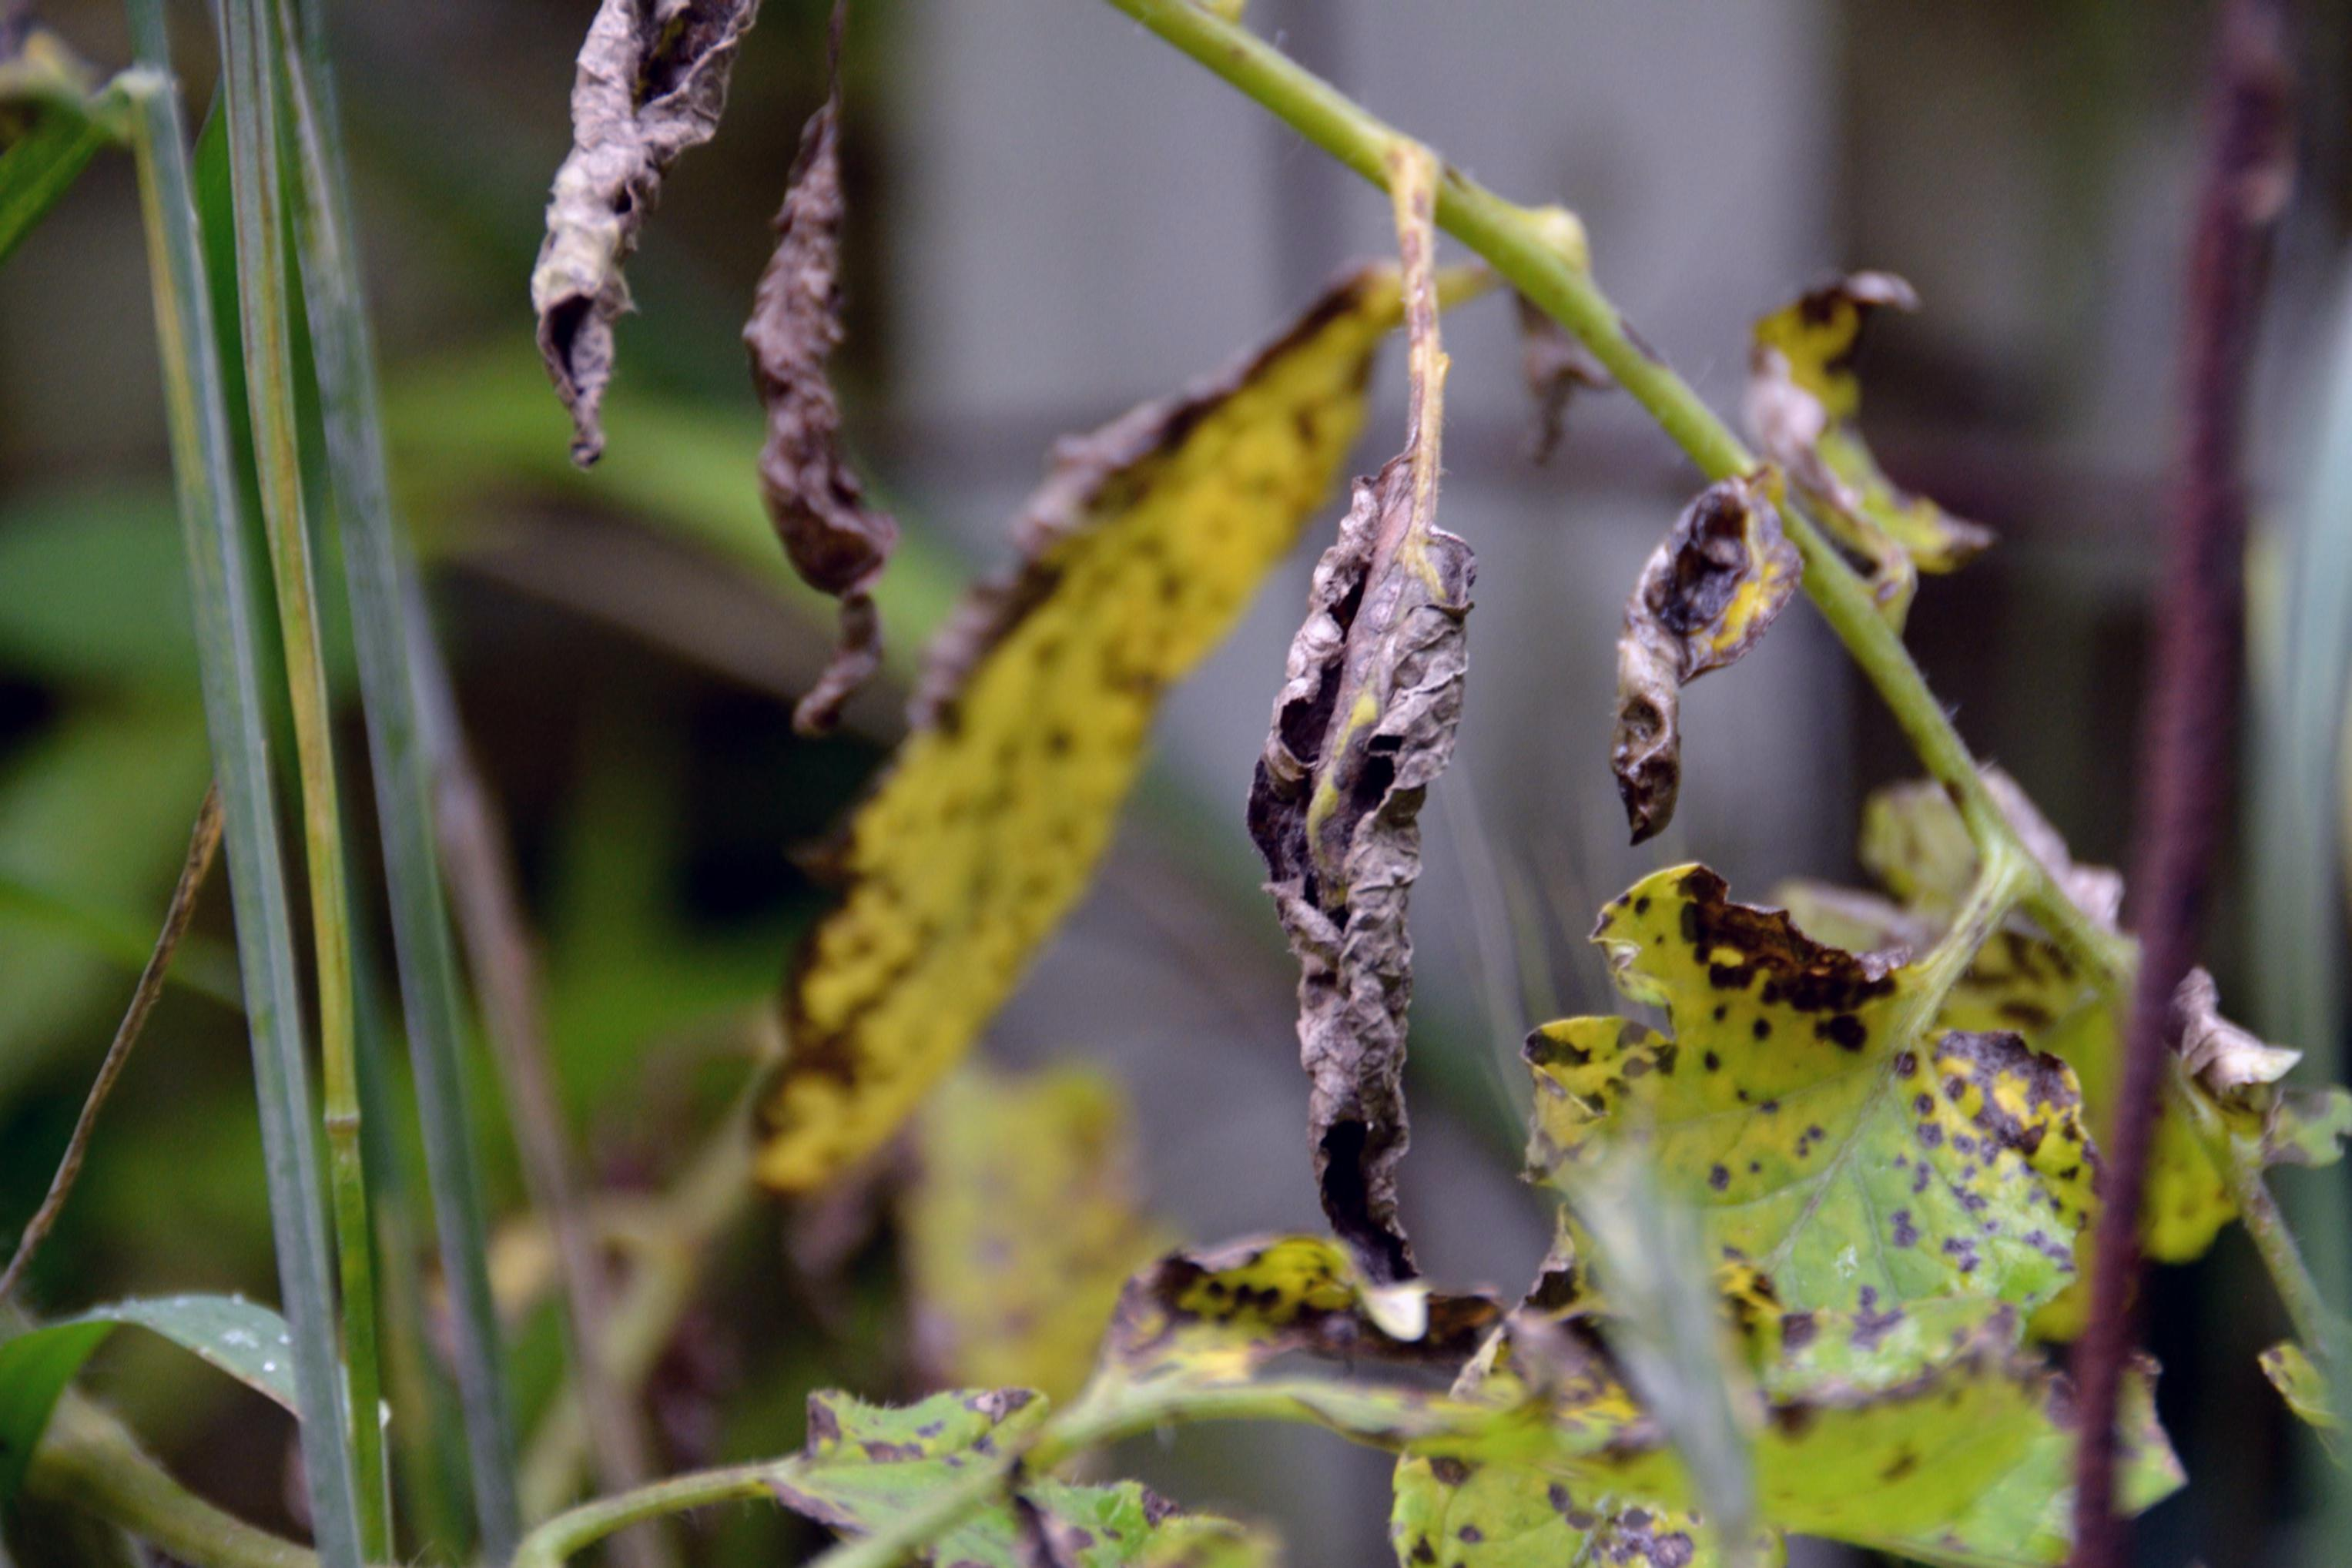Tomato Septoria leaf spot: (759, 271, 1382, 1164), (1405, 873, 2095, 1557)
